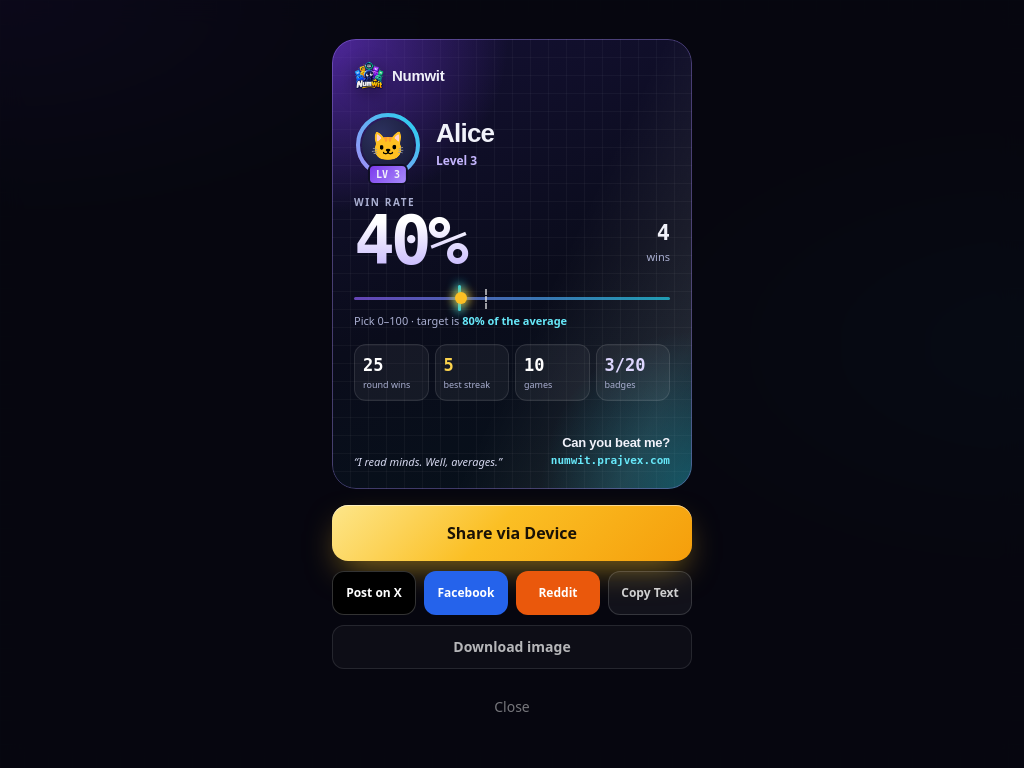
Test: ShareCardModal › Copy Text writes the share text to the clipboard and shows feedback
What coordinates should you click on to do the following:
click the button "Copy Text"
I would click on:
 (650, 593)
Its box is [608,571,692,615].
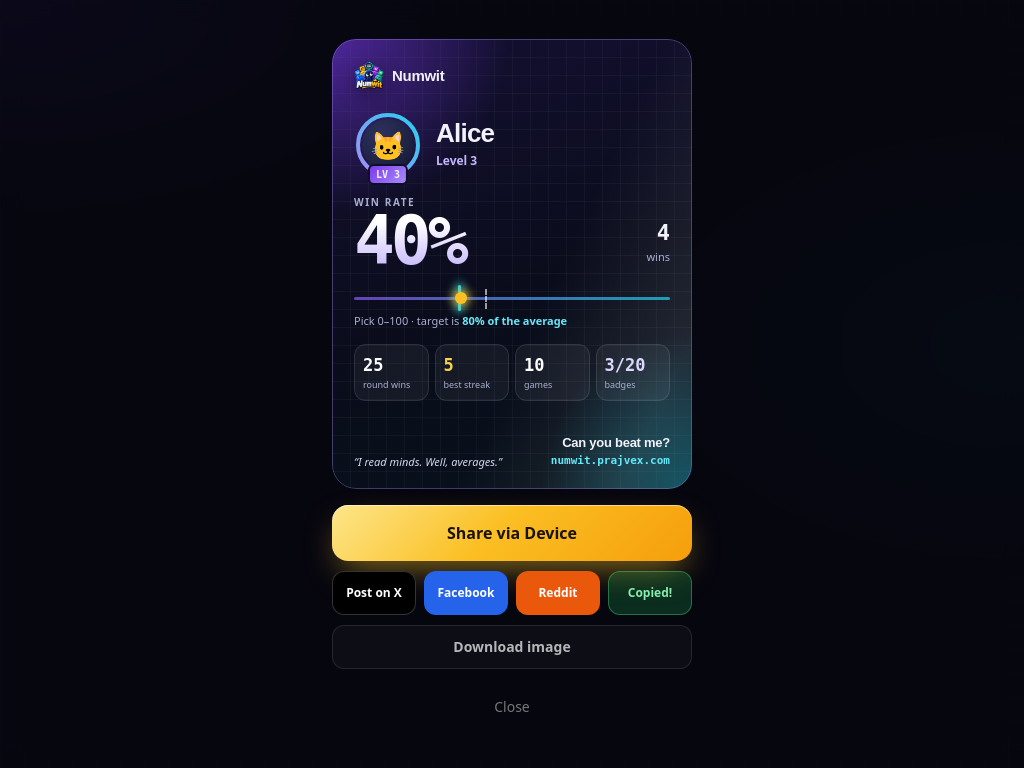
expect the button "Copied!" is shown: met, box [608,571,692,615]
